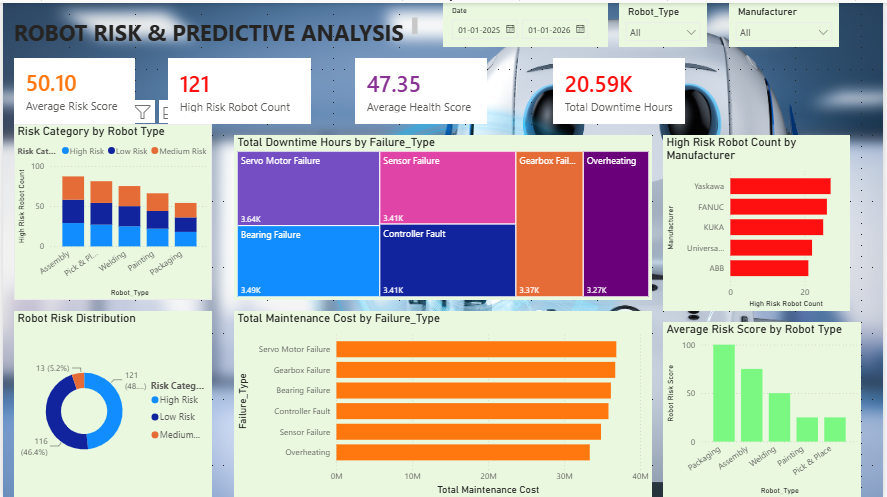

This screenshot's page, from the dashboard's own definition file:
{"tool":"powerbi","page":{"name":"Robot Risk & Reliability Analysis","canvas":[1280,720],"ordinal":2},"visuals":[{"type":"donutChart","title":"Robot Risk Distribution","fields":{"Category":["Risk_Category.Risk Category"],"Y":["Sensor_Data.Risk Category Count"]},"box":[16,448,288,272],"z":5000},{"type":"clusteredColumnChart","title":"Average Risk Score by Robot Type","fields":{"Category":["Robot_Master.Robot_Type"],"Y":["Sensor_Data.Robot Risk Score"]},"box":[960,464,288,256],"z":7000},{"type":"columnChart","title":"Risk Category by Robot Type","fields":{"Category":["Robot_Master.Robot_Type"],"Series":["Risk_Category.Risk Category"],"Y":["Sensor_Data.High Risk Robot Count"]},"box":[16,176,288,256],"z":8000},{"type":"textbox","box":[0,16,608,48],"z":9000},{"type":"slicer","fields":{"Values":["Date_Table.Date"]},"box":[640,0,240,64],"z":10000},{"type":"slicer","fields":{"Values":["Robot_Master.Robot_Type"]},"box":[896,0,128,64],"z":11000},{"type":"slicer","fields":{"Values":["Robot_Master.Manufacturer"]},"box":[1056,0,160,64],"z":12000},{"type":"cardVisual","fields":{"Data":["Sensor_Data.Average Risk Score"]},"box":[16,80,176,96],"z":12001},{"type":"cardVisual","fields":{"Data":["Sensor_Data.High Risk Robot Count"]},"box":[240,80,208,96],"z":12002},{"type":"cardVisual","fields":{"Data":["Sensor_Data.Average Health Score"]},"box":[512,80,192,96],"z":12003},{"type":"cardVisual","fields":{"Data":["Robot_Master.Total Downtime Hours"]},"box":[800,80,192,96],"z":12004},{"type":"clusteredBarChart","fields":{"Category":["Robot_Master.Manufacturer"],"Y":["Sensor_Data.High Risk Robot Count"]},"box":[960,192,272,256],"z":12005},{"type":"treemap","fields":{"Group":["Maintenance_log.Failure_Type"],"Values":["Robot_Master.Total Downtime Hours"]},"box":[336,192,608,240],"z":12006},{"type":"clusteredBarChart","fields":{"Category":["Maintenance_log.Failure_Type"],"Y":["Robot_Master.Total Maintenance Cost"]},"box":[336,448,608,272],"z":12007}]}

Visuals, with their boxes in screenshot pixels (x1, y1, x2, y2), scaled from the page's 1280x720 canvas onto the 887x497 screenshot:
"Robot Risk Distribution" donutChart: <box>11,309,211,496</box>
"Average Risk Score by Robot Type" clusteredColumnChart: <box>665,320,865,496</box>
"Risk Category by Robot Type" columnChart: <box>11,121,211,298</box>
textbox: <box>0,11,421,44</box>
slicer - Date_Table.Date: <box>444,0,610,44</box>
slicer - Robot_Master.Robot_Type: <box>621,0,710,44</box>
slicer - Robot_Master.Manufacturer: <box>732,0,843,44</box>
cardVisual - Sensor_Data.Average Risk Score: <box>11,55,133,121</box>
cardVisual - Sensor_Data.High Risk Robot Count: <box>166,55,310,121</box>
cardVisual - Sensor_Data.Average Health Score: <box>355,55,488,121</box>
cardVisual - Robot_Master.Total Downtime Hours: <box>554,55,687,121</box>
clusteredBarChart - Robot_Master.Manufacturer x Sensor_Data.High Risk Robot Count: <box>665,133,854,309</box>
treemap - Maintenance_log.Failure_Type x Robot_Master.Total Downtime Hours: <box>233,133,654,298</box>
clusteredBarChart - Maintenance_log.Failure_Type x Robot_Master.Total Maintenance Cost: <box>233,309,654,496</box>
